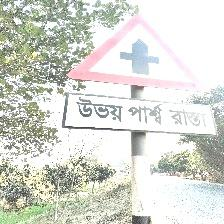Crossroad: (61, 11, 216, 139)
